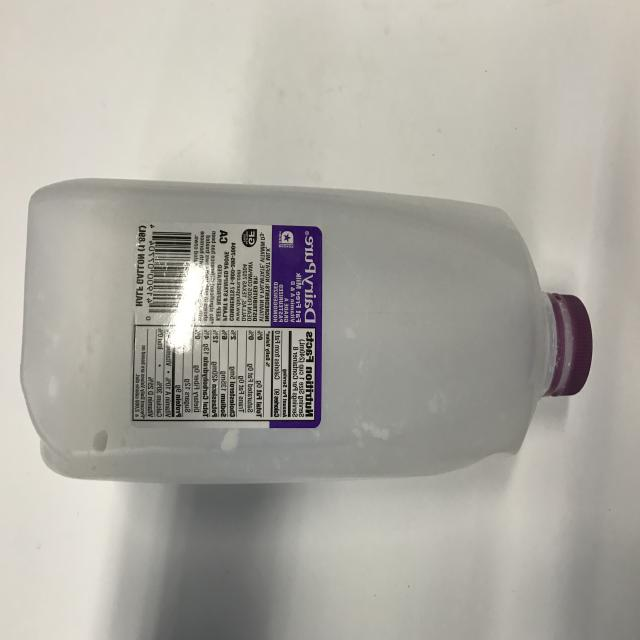plastic: (20, 176, 593, 485)
